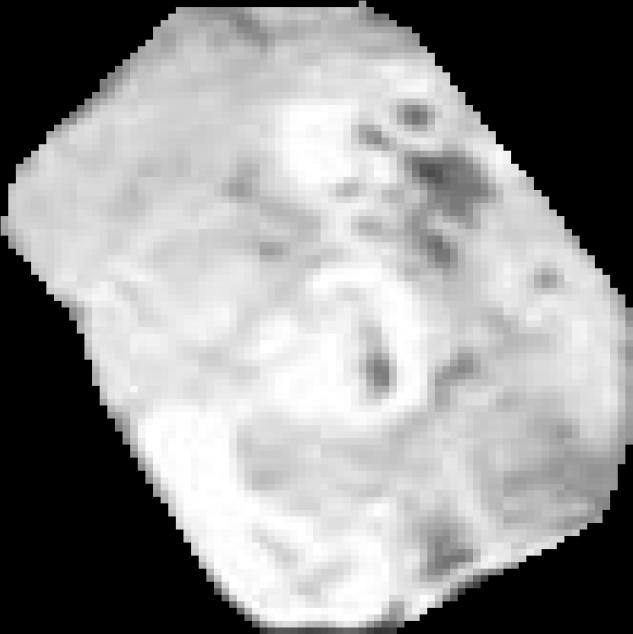tumor_moderate_chance: (1, 1, 633, 634)
